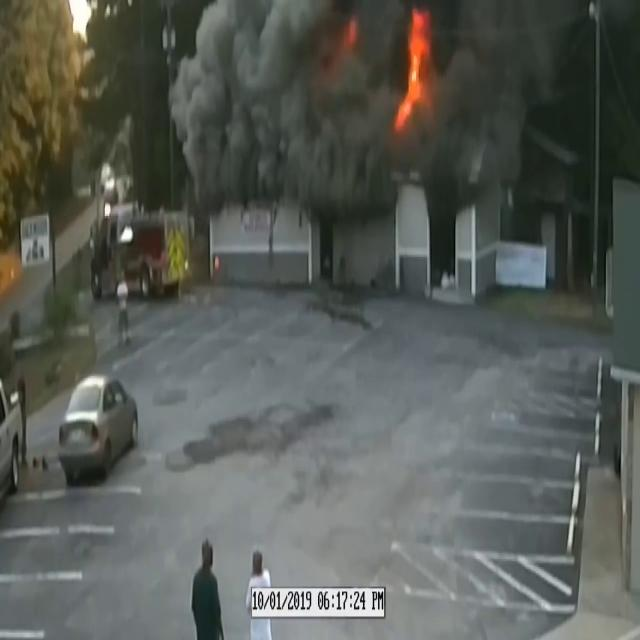Fire: (395, 7, 435, 130)
Smoke: (160, 0, 497, 219)
